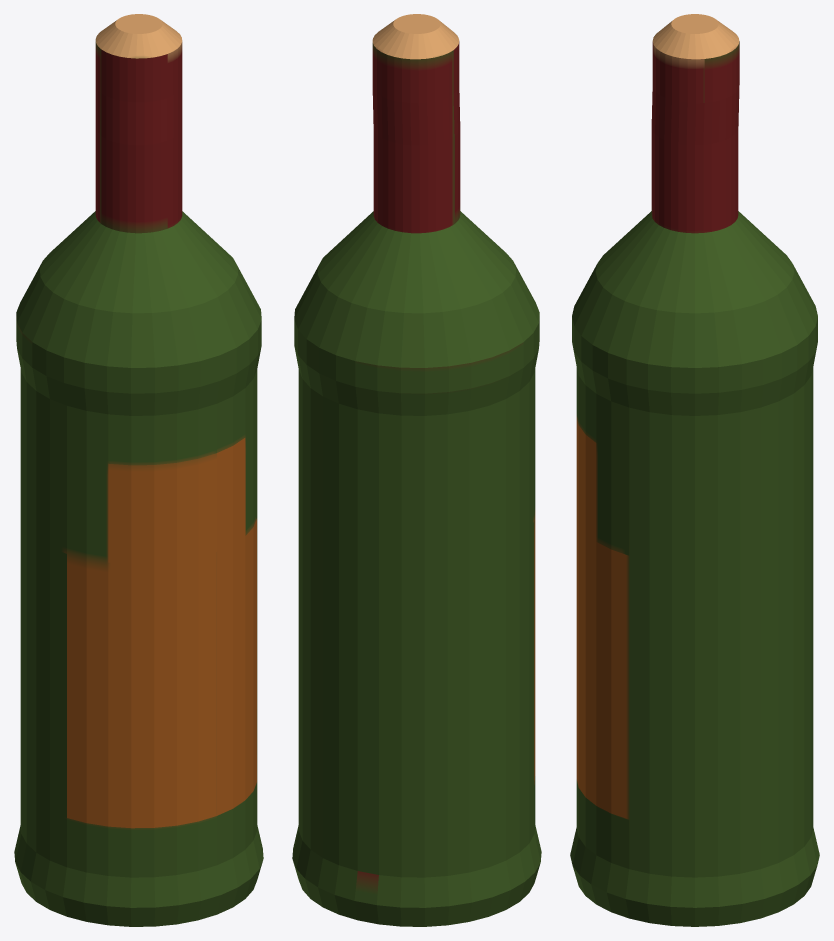
File: WineBottle (1).fbx
3 renders of one model, left to right at view 1: azimuth 30°, elevation 25°; view 2: azimuth 150°, elevation 25°; view 3: azimuth 270°, elevation 25°, orthographic.
Visible parts, largest first — view 1: Cylinder; view 2: Cylinder; view 3: Cylinder.
Part boxes in pixels (bbox=[...]): Cylinder: bbox=[14, 14, 263, 926]; Cylinder: bbox=[292, 14, 541, 926]; Cylinder: bbox=[570, 14, 819, 926].
Size of the model in its own units: 211 by 794 by 211.
Materials: 1 (1 with a texture image).
